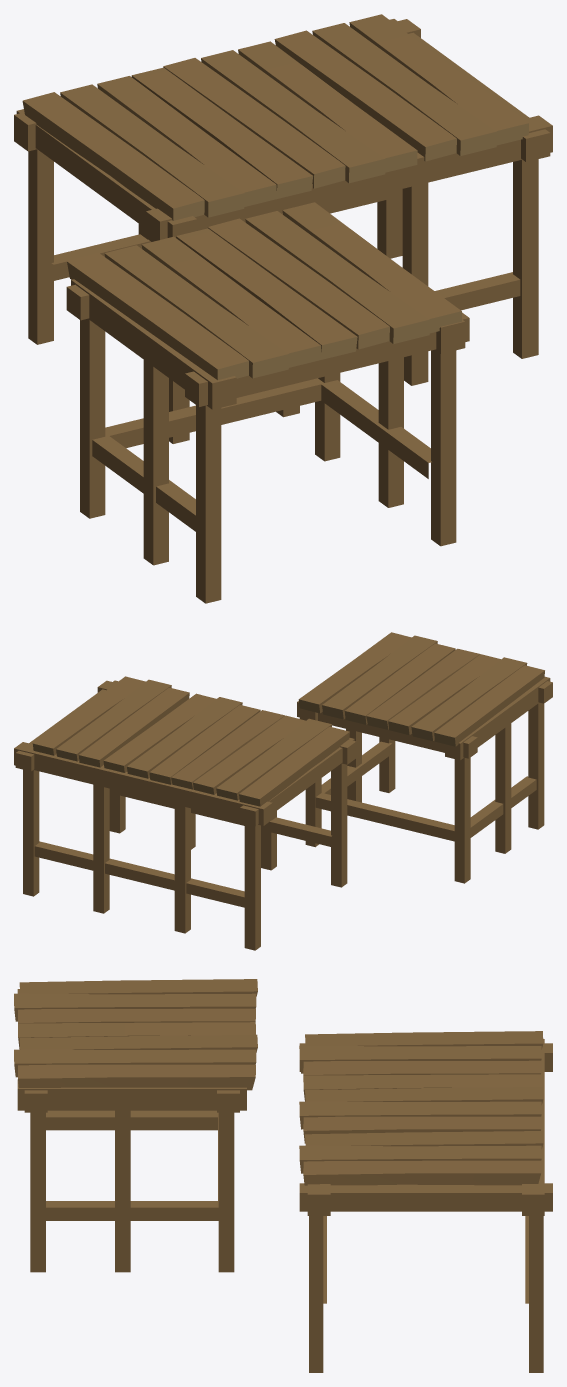
Rendered from quaternius-real-time-strategy-houses-first-age-3-level-2.glb.
The picture shows the model from 3 angles, top to bottom: view 1: azimuth 30°, elevation 25°; view 2: azimuth 150°, elevation 25°; view 3: azimuth 270°, elevation 25°; orthographic projection. The views are drawn at different scales.
Visible parts, largest first — view 1: Houses_FirstAge_3_Level2; view 2: Houses_FirstAge_3_Level2; view 3: Houses_FirstAge_3_Level2.
Part boxes in pixels (<box>): Houses_FirstAge_3_Level2: <box>14,14,552,603</box>; Houses_FirstAge_3_Level2: <box>14,632,552,950</box>; Houses_FirstAge_3_Level2: <box>14,979,552,1372</box>.
Size of the model in its own units: 1.32 by 0.574 by 1.44.
